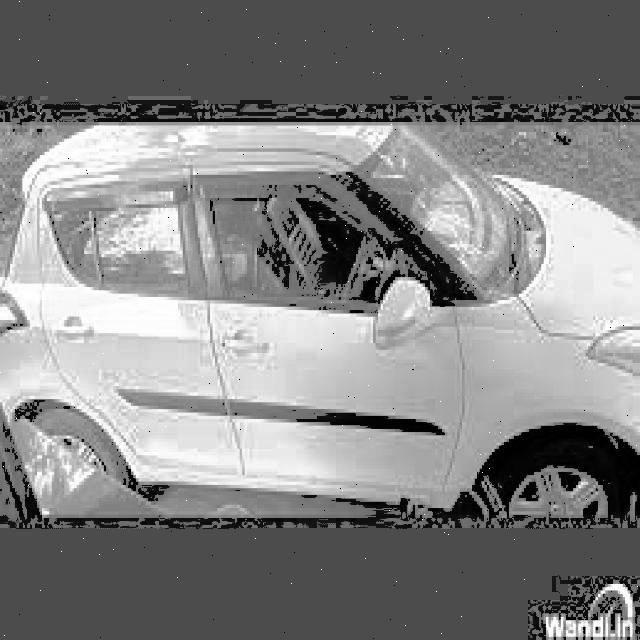Car: (8, 143, 640, 508)
